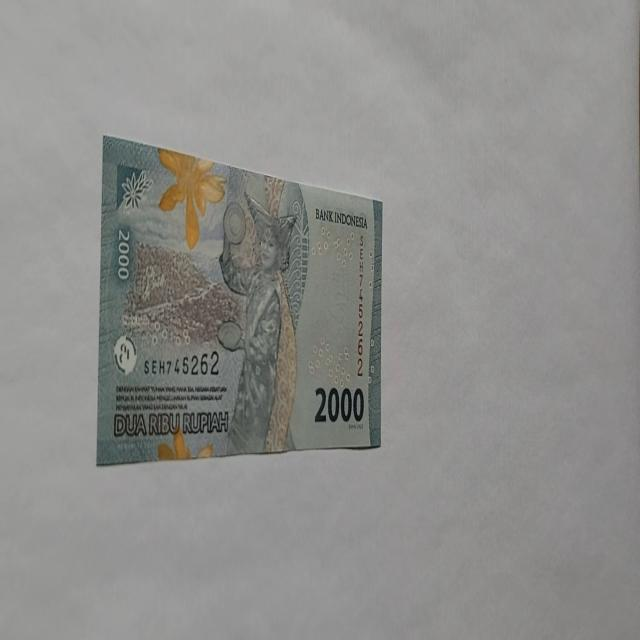dua ribu rupiah: (95, 135, 383, 465), (217, 190, 299, 455), (156, 146, 226, 250)
